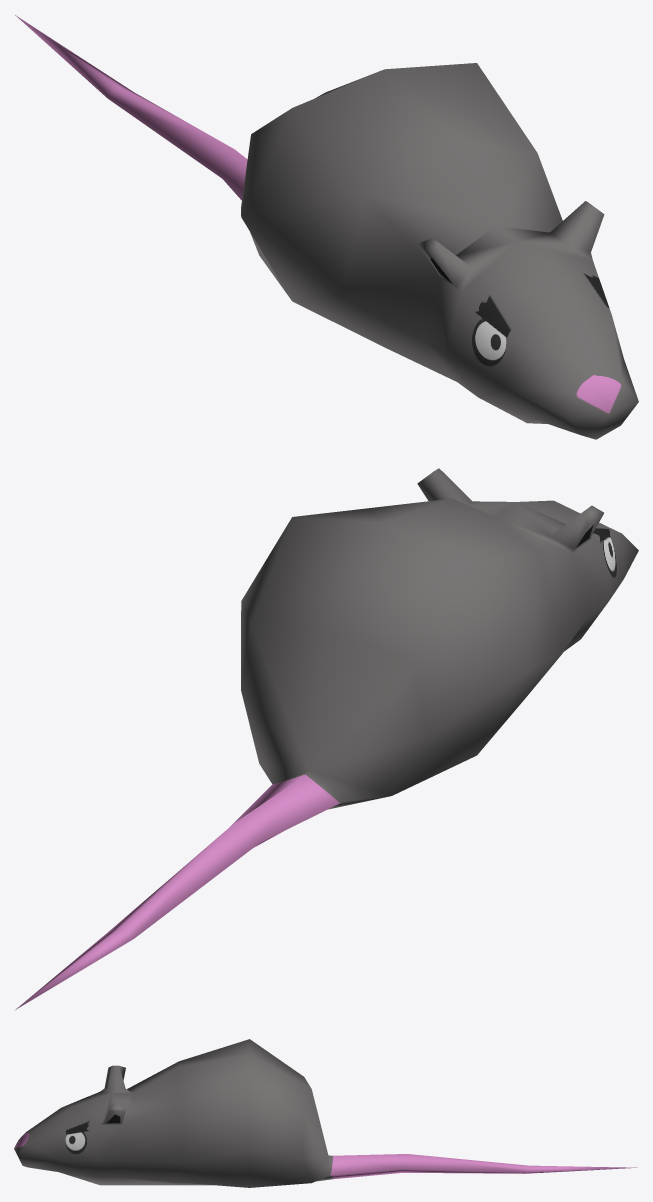
The model's file is rata.FBX.
3 views of the same model, one above another, from view 1: azimuth 30°, elevation 25°; view 2: azimuth 150°, elevation 25°; view 3: azimuth 270°, elevation 25° (orthographic). The views are drawn at different scales.
Visible parts, largest first — view 1: Cylinder001; view 2: Cylinder001; view 3: Cylinder001.
Part boxes in pixels (box(x1,y1,x2,y2)): Cylinder001: box(15, 15, 638, 439); Cylinder001: box(15, 468, 638, 1009); Cylinder001: box(14, 1039, 637, 1187).
Bounding box in the file's own units: 43.53 × 36.2 × 156.
